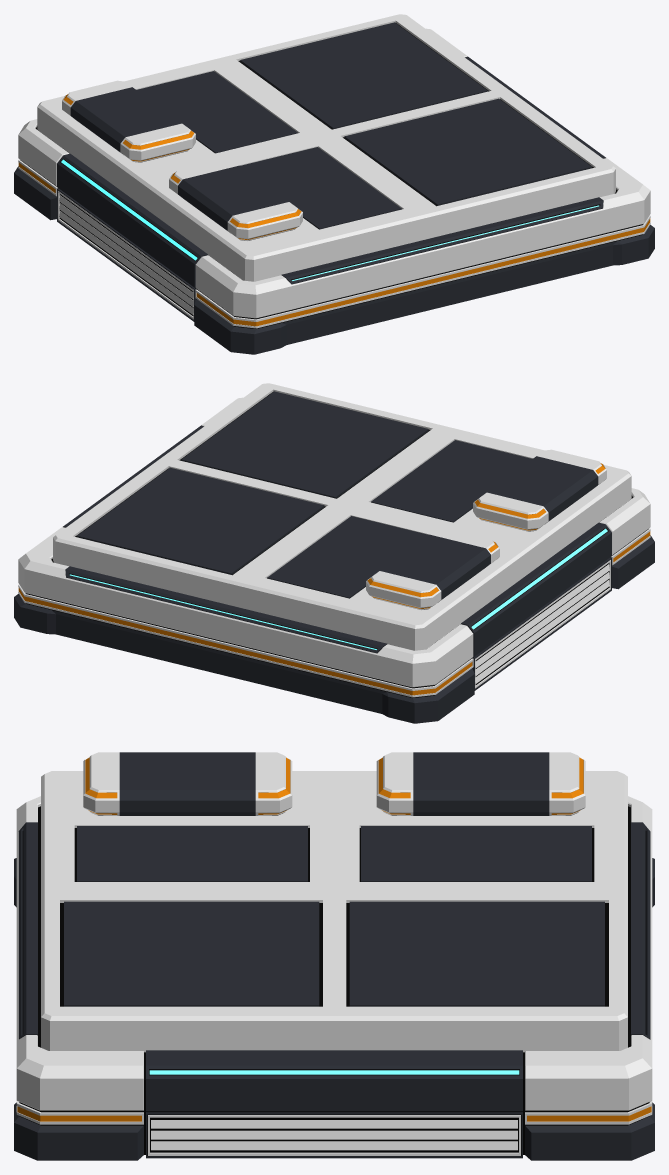
The model's file is SM_Bed_Double.fbx.
The picture shows the model from 3 angles, top to bottom: view 1: azimuth 30°, elevation 25°; view 2: azimuth 150°, elevation 25°; view 3: azimuth 270°, elevation 25°; orthographic projection. The views are drawn at different scales.
Visible parts, largest first — view 1: SM_Bed_Double; view 2: SM_Bed_Double; view 3: SM_Bed_Double.
Part boxes in pixels (x1=…): SM_Bed_Double: x1=14, y1=14, x2=654, y2=354; SM_Bed_Double: x1=14, y1=383, x2=654, y2=723; SM_Bed_Double: x1=14, y1=752, x2=654, y2=1160.
Size of the model in its own units: 229 by 54.96 by 218.
